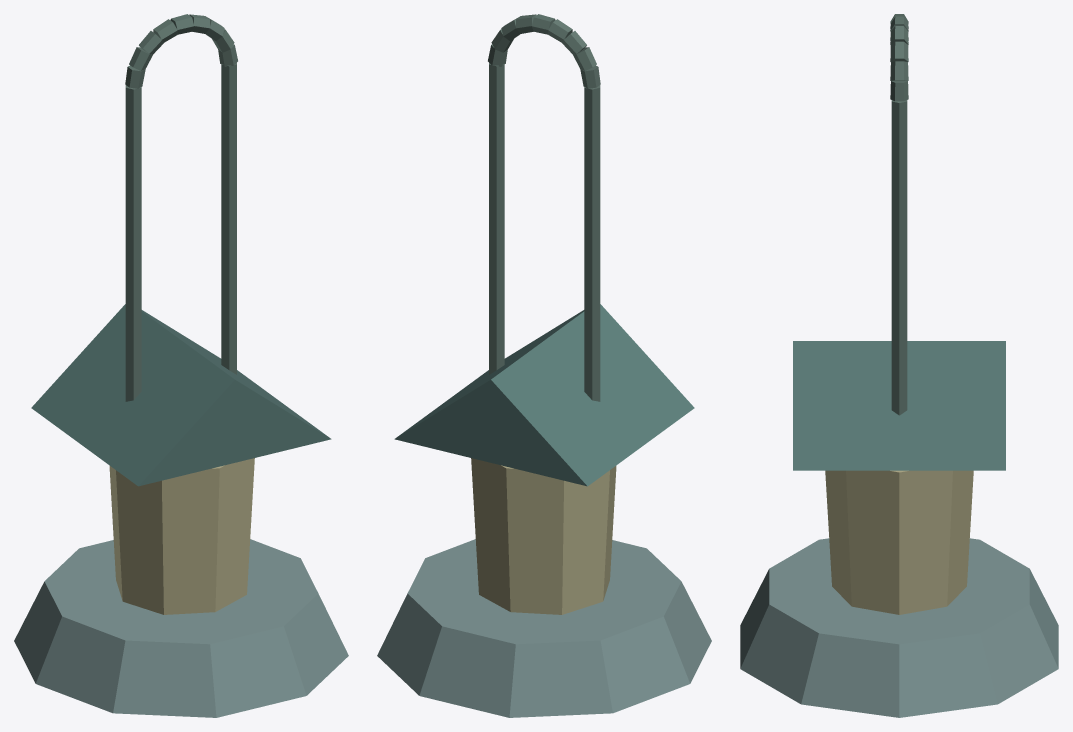
File: map-exclusive-v3__lake_12.glb
3 renders of one model, left to right at view 1: azimuth 30°, elevation 25°; view 2: azimuth 150°, elevation 25°; view 3: azimuth 270°, elevation 25°, orthographic.
Visible parts, largest first — view 1: lake_12; view 2: lake_12; view 3: lake_12.
Part boxes in pixels (x1,y1,x2,y2): lake_12: (14,14,348,717); lake_12: (377,14,711,717); lake_12: (740,14,1058,717).
Size of the model in its own units: 1.1 by 2.27 by 1.05.
